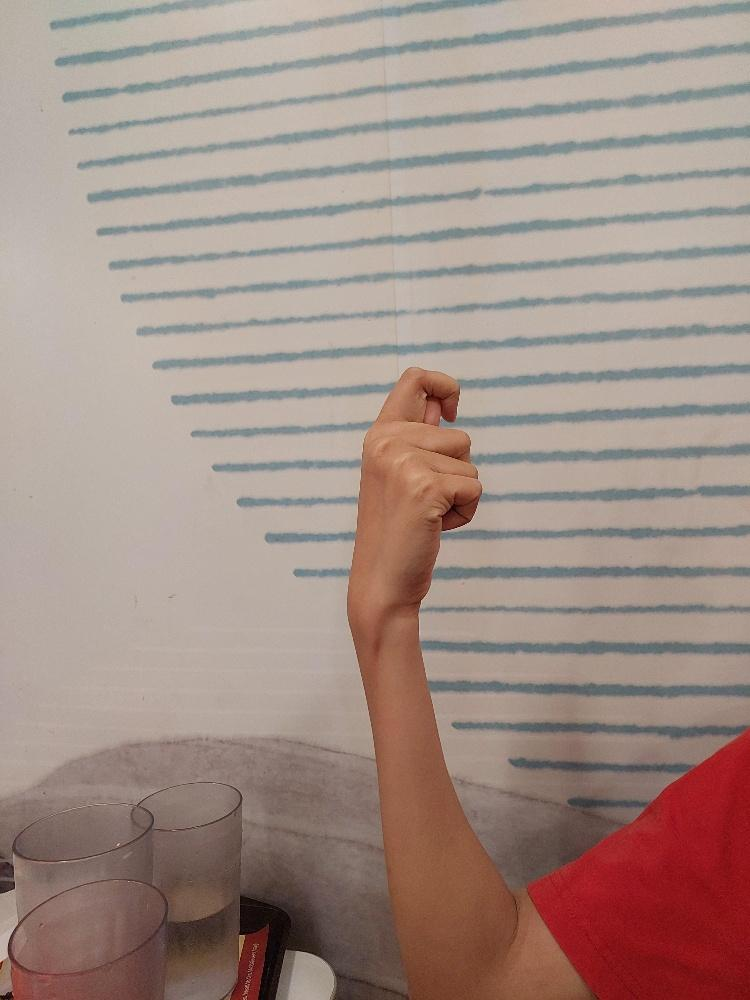t: (348, 364, 485, 614)
